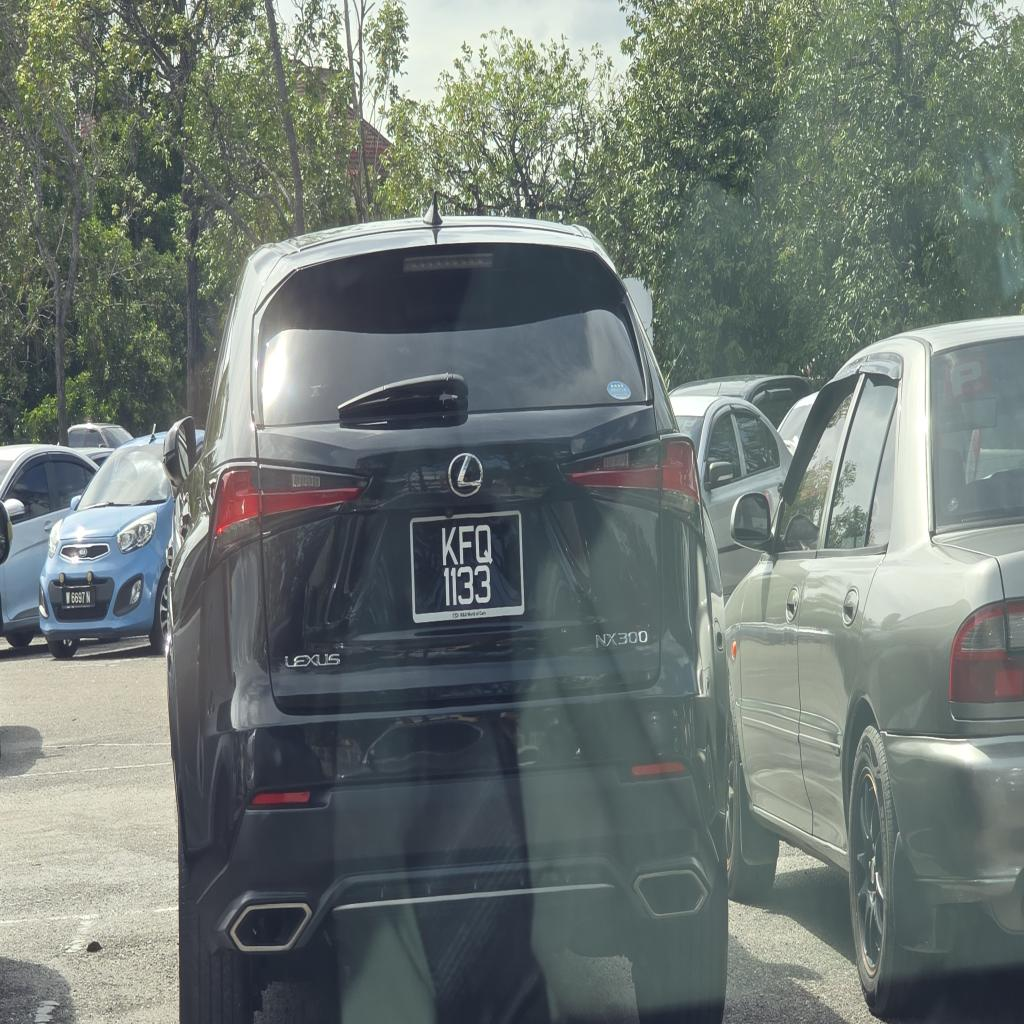car: (165, 208, 727, 1023)
car plate: (410, 511, 524, 623)
